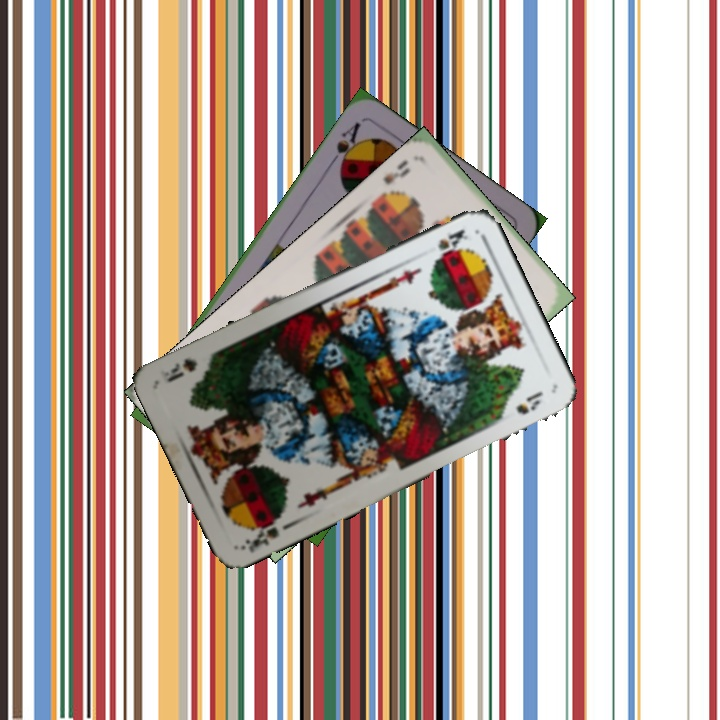S9: (374, 155, 413, 203)
SA: (325, 117, 365, 175)
SK: (238, 511, 285, 555), (434, 225, 470, 258)
